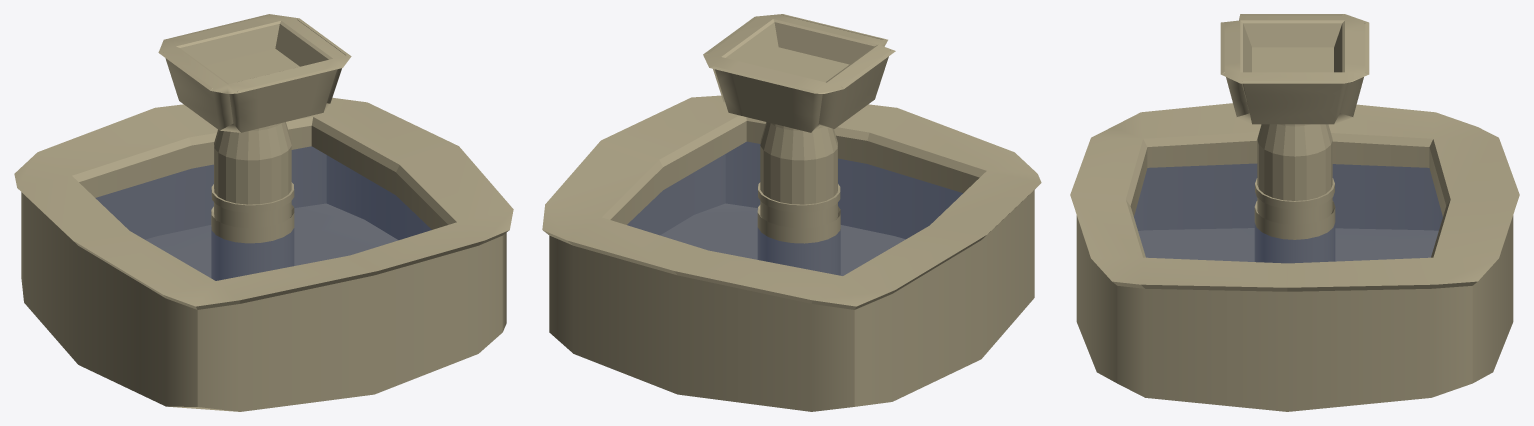
File: fountain.fbx
3 views of the same model, side by side, from view 1: azimuth 30°, elevation 25°; view 2: azimuth 150°, elevation 25°; view 3: azimuth 270°, elevation 25° (orthographic).
Visible parts, largest first — view 1: fountain, pCube5, pCylinder2; view 2: fountain, pCube5, pCylinder2; view 3: fountain, pCube5, pCylinder2.
Boxes of the visible parts, x1,y1,x2,y2 form: fountain: [14, 97, 513, 411]; pCube5: [158, 14, 351, 132]; pCylinder2: [211, 122, 294, 280]; fountain: [542, 95, 1041, 411]; pCube5: [703, 14, 895, 132]; pCylinder2: [757, 122, 840, 275]; fountain: [1070, 103, 1519, 411]; pCube5: [1220, 14, 1369, 124]; pCylinder2: [1254, 124, 1335, 262].
Bounding box in the file's own units: 13.74 × 9.07 × 13.74.
